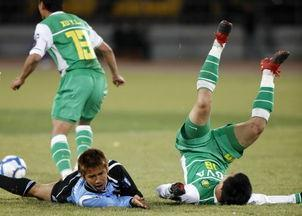Fall-Detected: (149, 10, 285, 206)
